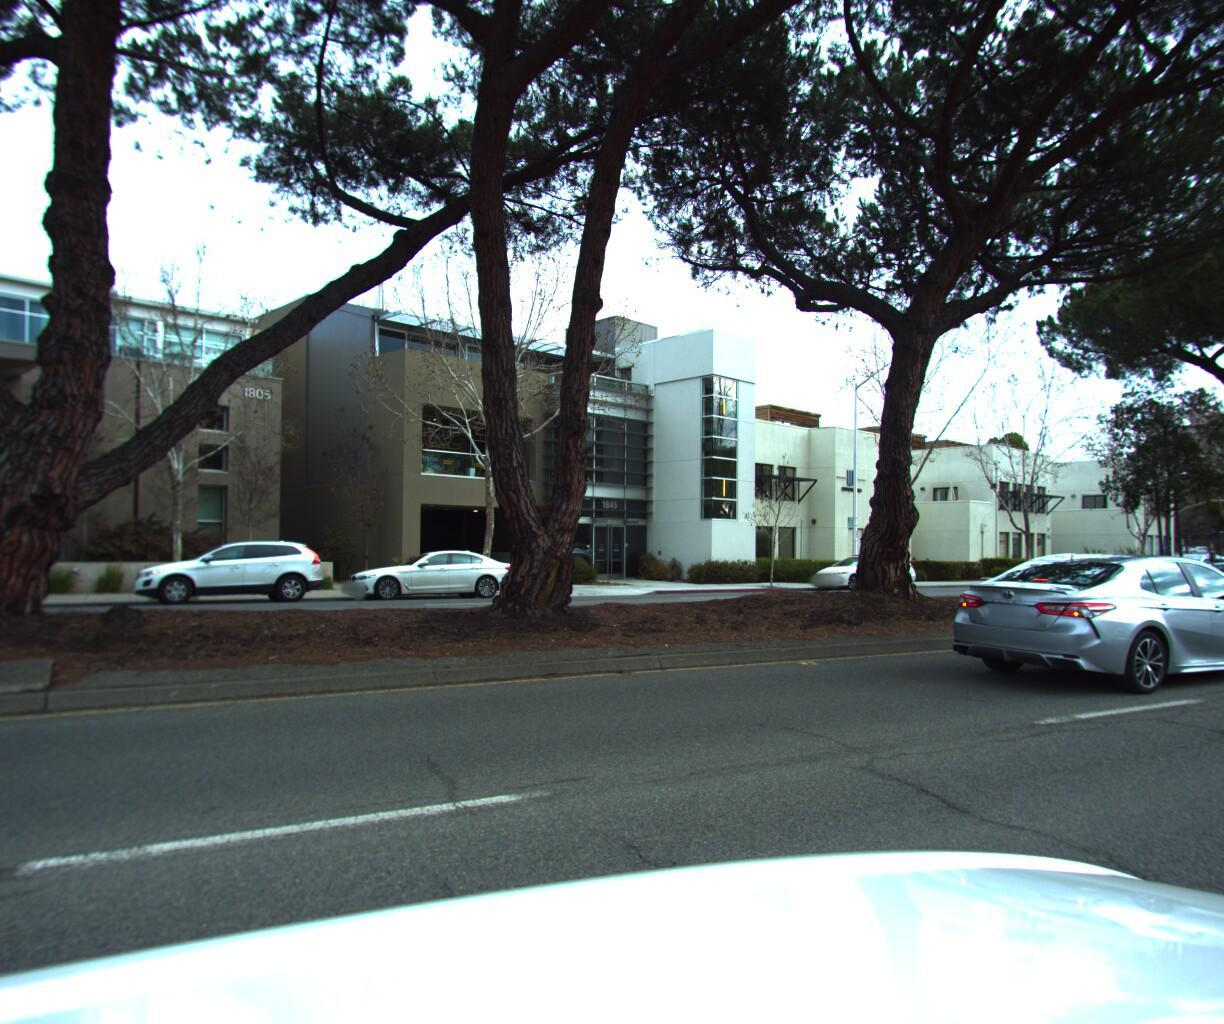car: (922, 546, 1224, 706), (131, 537, 330, 611), (341, 545, 521, 603), (802, 548, 920, 589), (1137, 545, 1224, 579)
